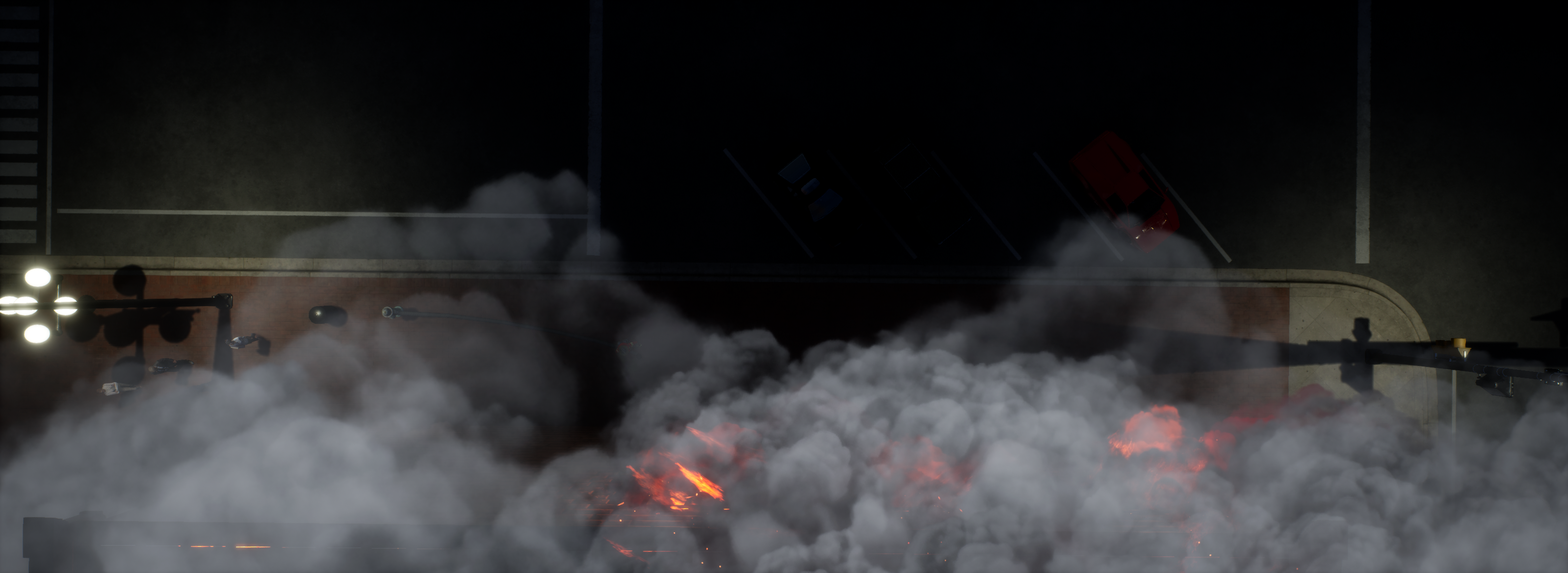car: (1073, 130, 1180, 253), (878, 134, 976, 246), (768, 146, 857, 236)
person: (148, 359, 194, 374), (97, 382, 140, 396), (225, 334, 264, 349), (616, 341, 644, 354)
